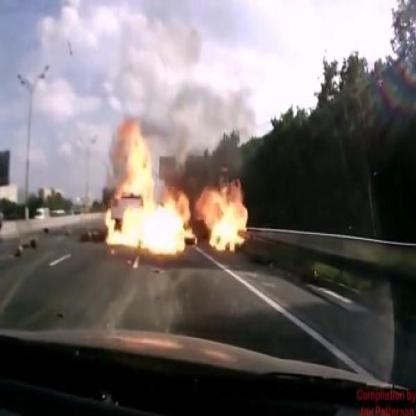fire: (101, 114, 251, 261)
